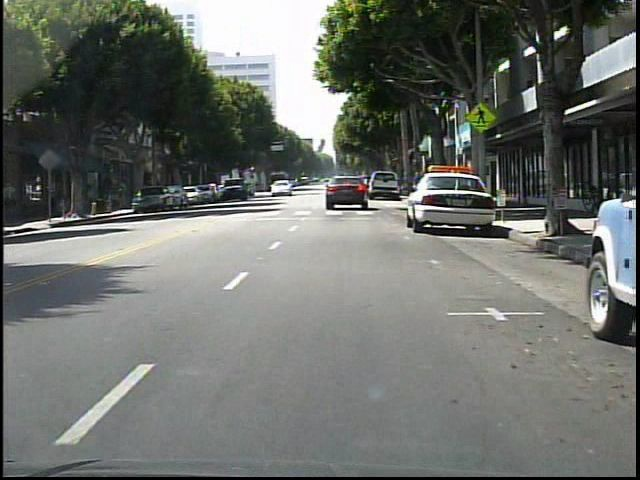person: (3, 179, 21, 228)
